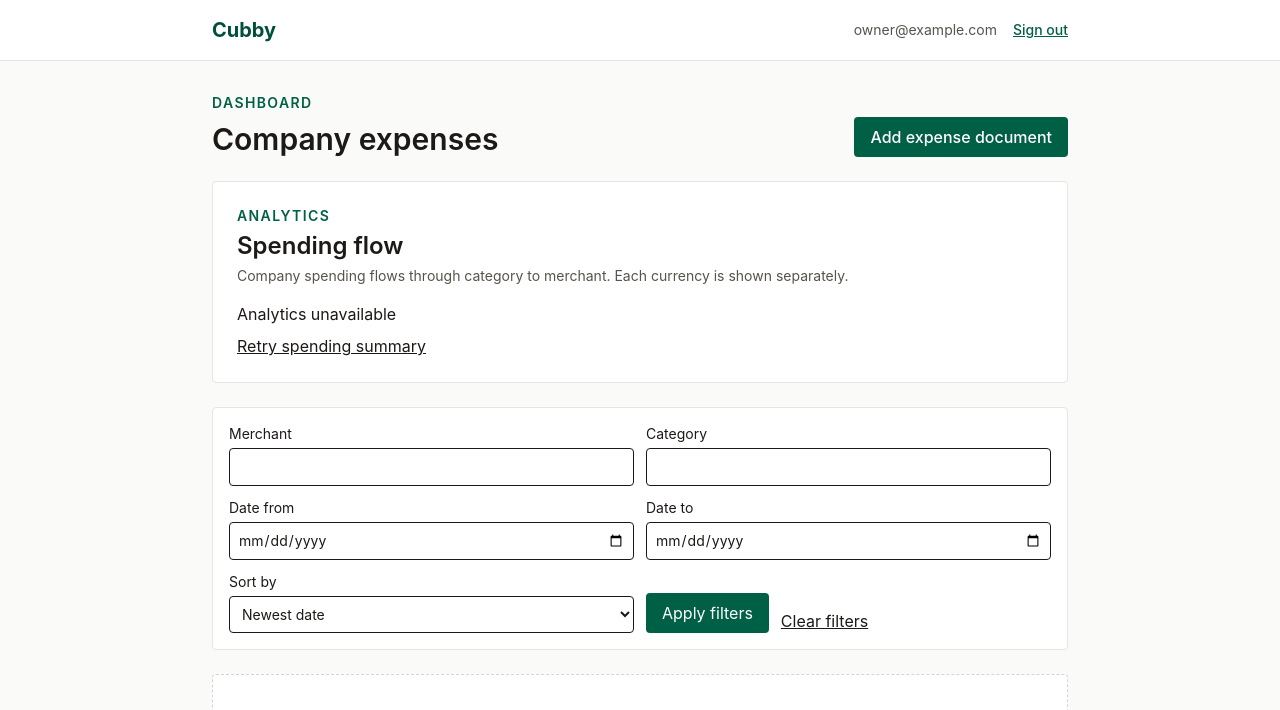
receipt screens › shows retryable analytics errors and empty analytics state
expect the message shows "Analytics unavailable": met, box [237,304,396,324]
Click the button "Retry spending summary".
click(332, 346)  # box [237,334,426,358]
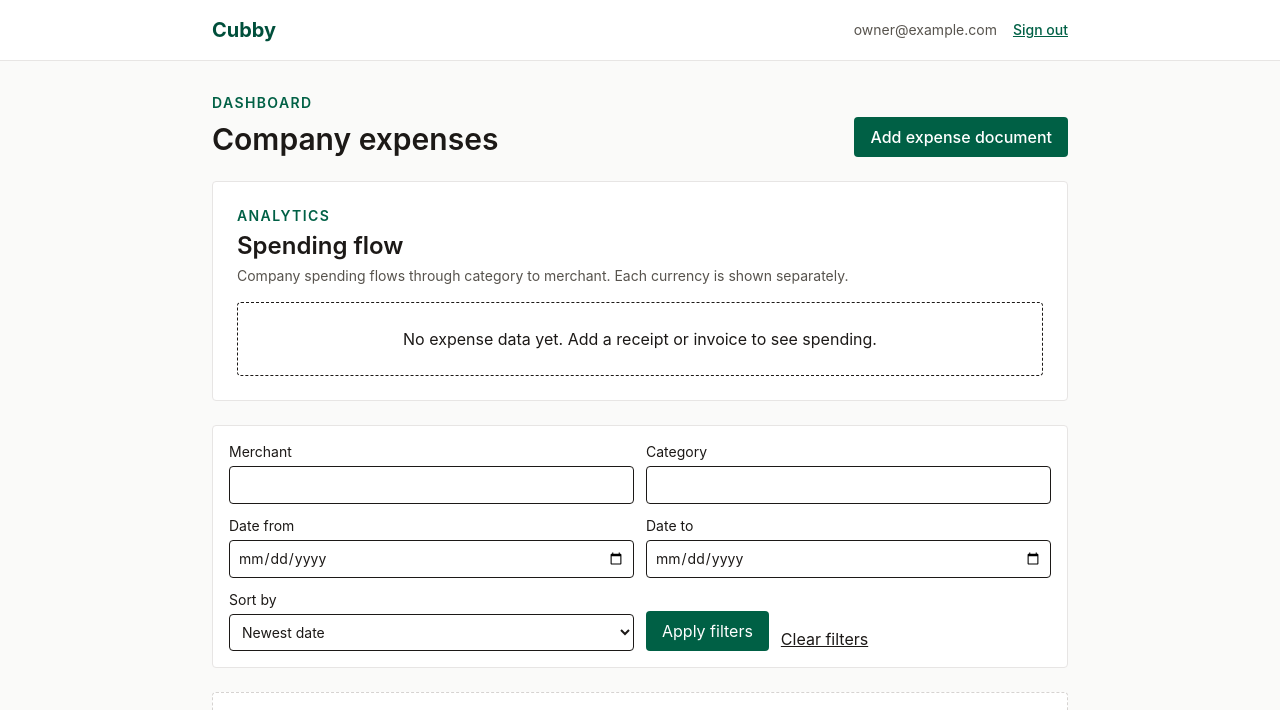
expect the text "No expense data yet" is shown: met, box [403,329,877,349]
